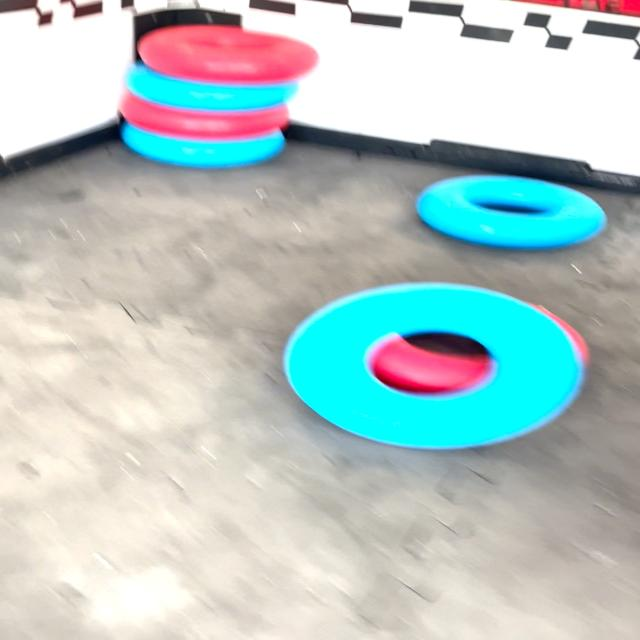Blue-Ring: (284, 282, 585, 449), (416, 175, 607, 249), (127, 62, 298, 111), (122, 124, 284, 168)
Red-Ring: (138, 25, 318, 84), (120, 91, 289, 141)
